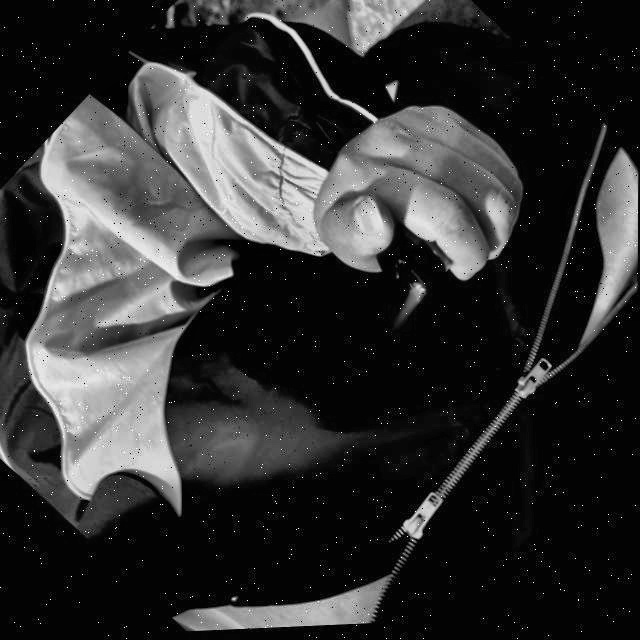Fire: (381, 289, 427, 336)
